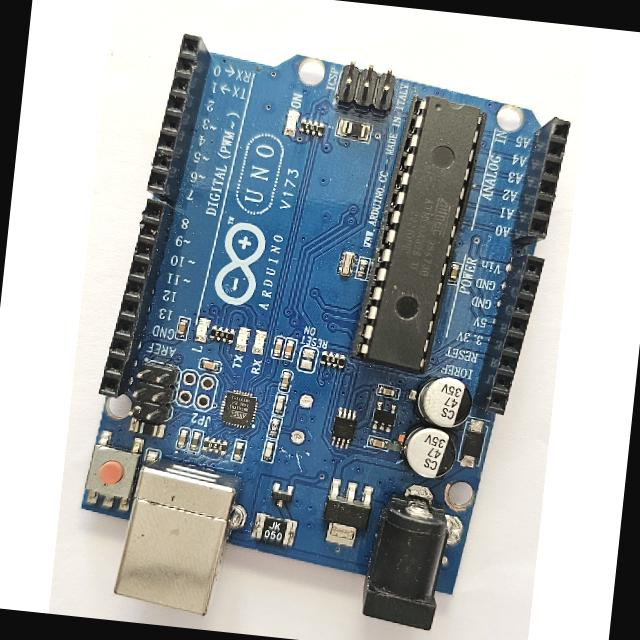missing_crystal_os: (272, 372, 336, 477)
